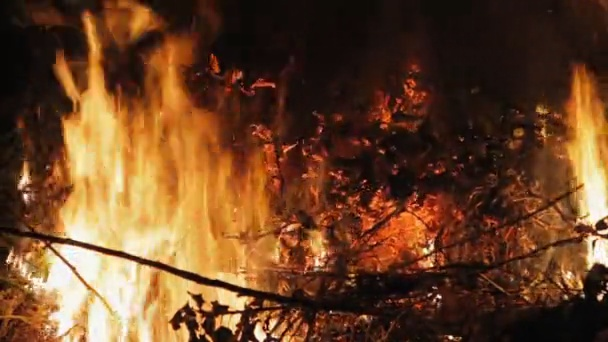fire: (9, 1, 325, 342), (569, 68, 608, 265)
